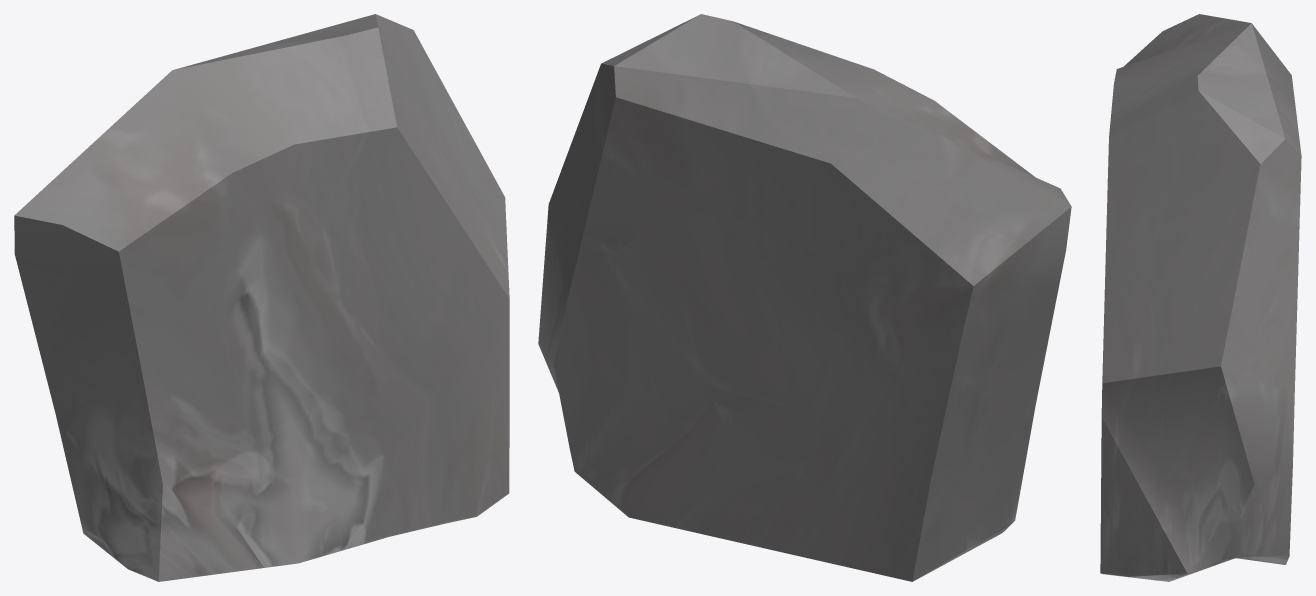
File: pedra_06.fbx
3 views of the same model, side by side, from view 1: azimuth 30°, elevation 25°; view 2: azimuth 150°, elevation 25°; view 3: azimuth 270°, elevation 25° (orthographic). The views are drawn at different scales.
Parts seen in each view (by area): view 1: Pedra.005; view 2: Pedra.005; view 3: Pedra.005.
Part boxes in pixels (x1,y1,x2,y2): Pedra.005: (14, 14, 509, 581); Pedra.005: (538, 14, 1071, 581); Pedra.005: (1100, 14, 1301, 581).
Size of the model in its own units: 49.05 by 44.18 by 17.26.
